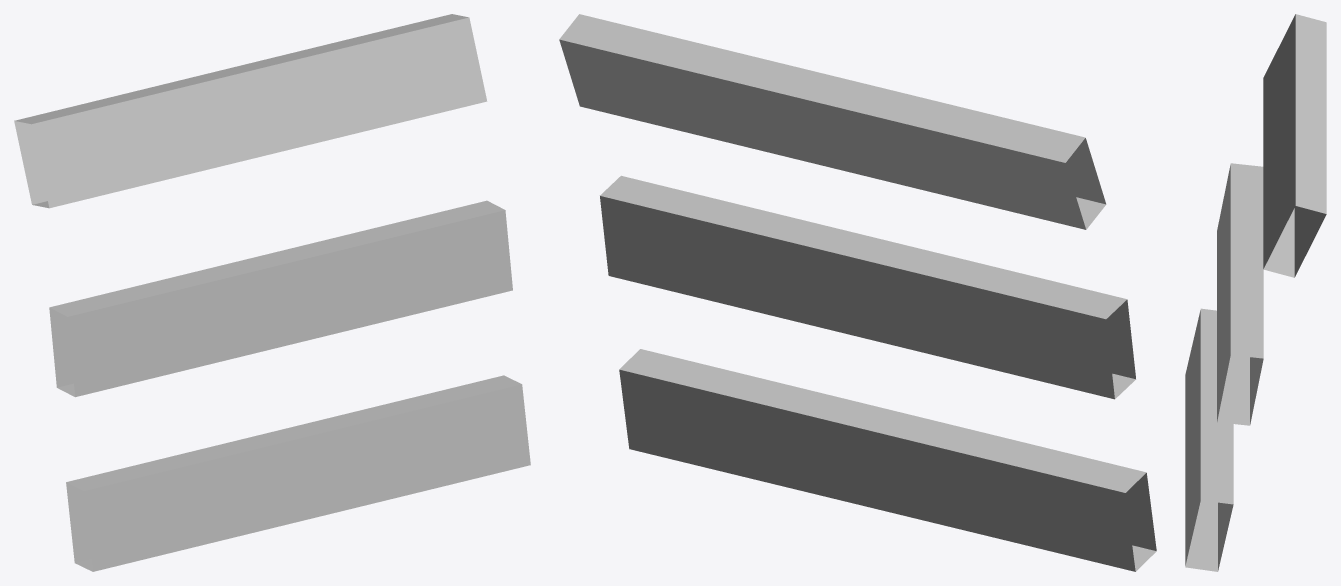
File: Itr_Chair3_Back_06.FBX
The picture shows the model from 3 angles, left to right: view 1: azimuth 30°, elevation 25°; view 2: azimuth 150°, elevation 25°; view 3: azimuth 270°, elevation 25°; orthographic projection. The views are drawn at different scales.
Parts seen in each view (by area): view 1: Itr_Chair3_Back_06; view 2: Itr_Chair3_Back_06; view 3: Itr_Chair3_Back_06.
Part boxes in pixels (<box>): Itr_Chair3_Back_06: <box>14,14,530,571</box>; Itr_Chair3_Back_06: <box>559,14,1156,571</box>; Itr_Chair3_Back_06: <box>1185,14,1326,571</box>.
Size of the model in its own units: 12.02 by 10.7 by 3.75.
